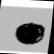correct: (8, 21, 49, 49)
